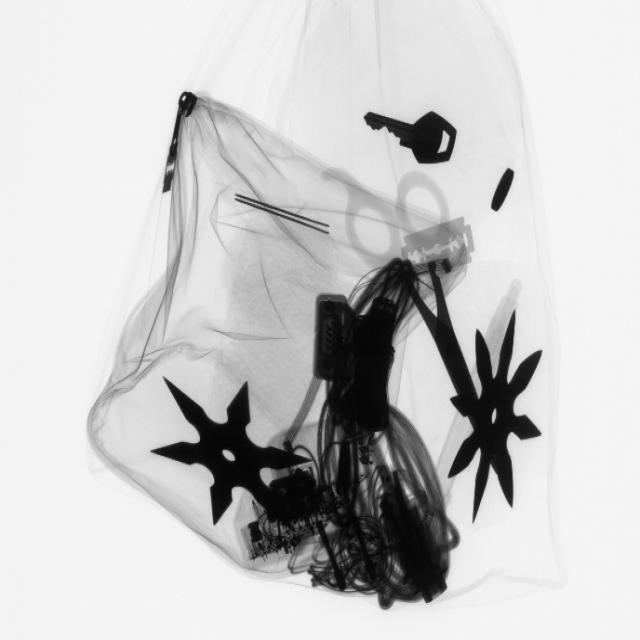BLADE: (396, 213, 480, 280)
SHURIKEN: (438, 308, 548, 523), (157, 377, 307, 529)
